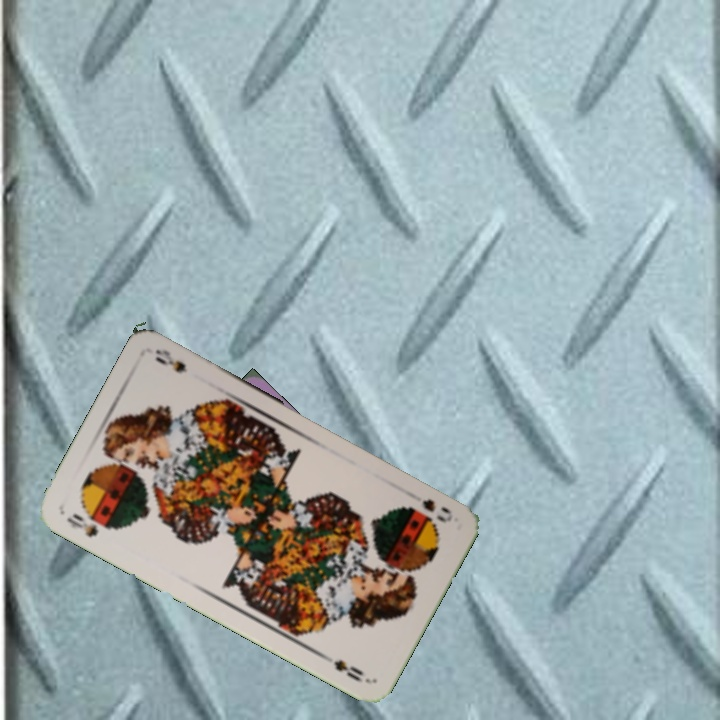SO: (62, 509, 114, 541), (418, 495, 456, 526)
